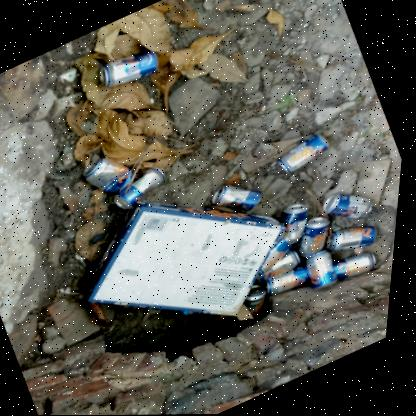Metal: (101, 49, 160, 86), (118, 167, 169, 209), (281, 133, 333, 173), (86, 157, 136, 192), (262, 249, 305, 283), (216, 184, 266, 211), (310, 250, 343, 290), (269, 266, 314, 295), (327, 193, 376, 218), (303, 217, 334, 256), (264, 237, 296, 274), (332, 226, 381, 250), (284, 204, 313, 243), (339, 253, 380, 280), (251, 284, 271, 312), (89, 163, 99, 169), (333, 239, 338, 243), (163, 167, 167, 171), (220, 193, 223, 198)
Paper: (92, 200, 290, 317)
